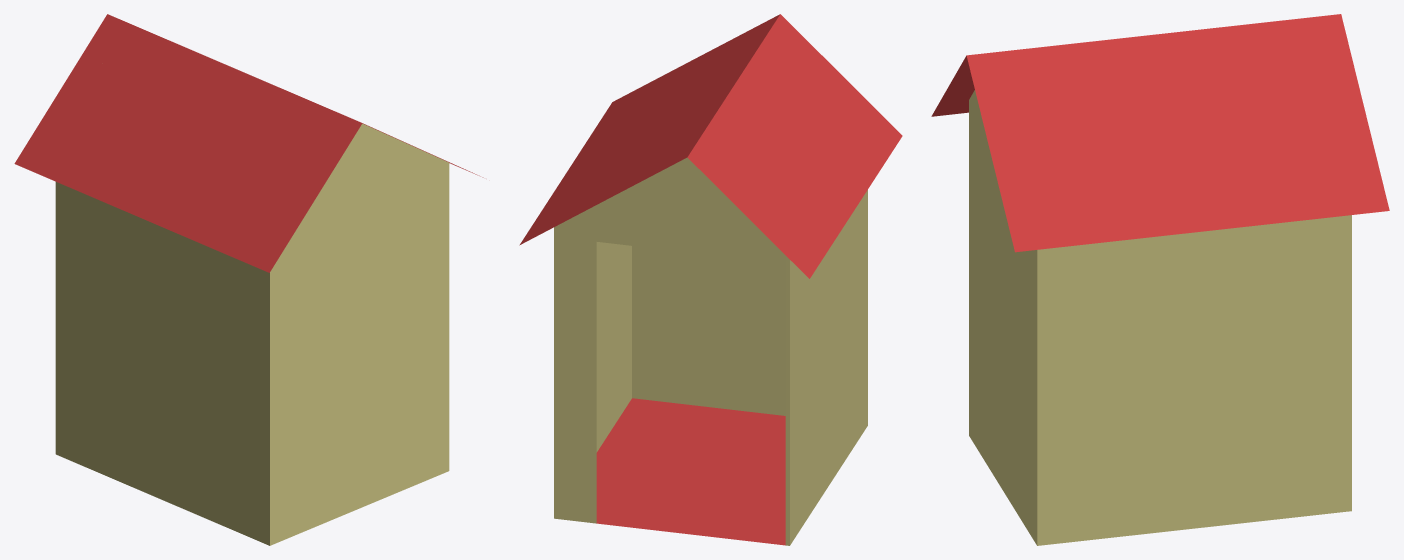
3 renders of one model, left to right at view 1: azimuth 30°, elevation 25°; view 2: azimuth 150°, elevation 25°; view 3: azimuth 270°, elevation 25°, orthographic. The views are drawn at different scales.
Bounding box in the file's own units: 6.73 × 7.37 × 7.6.
